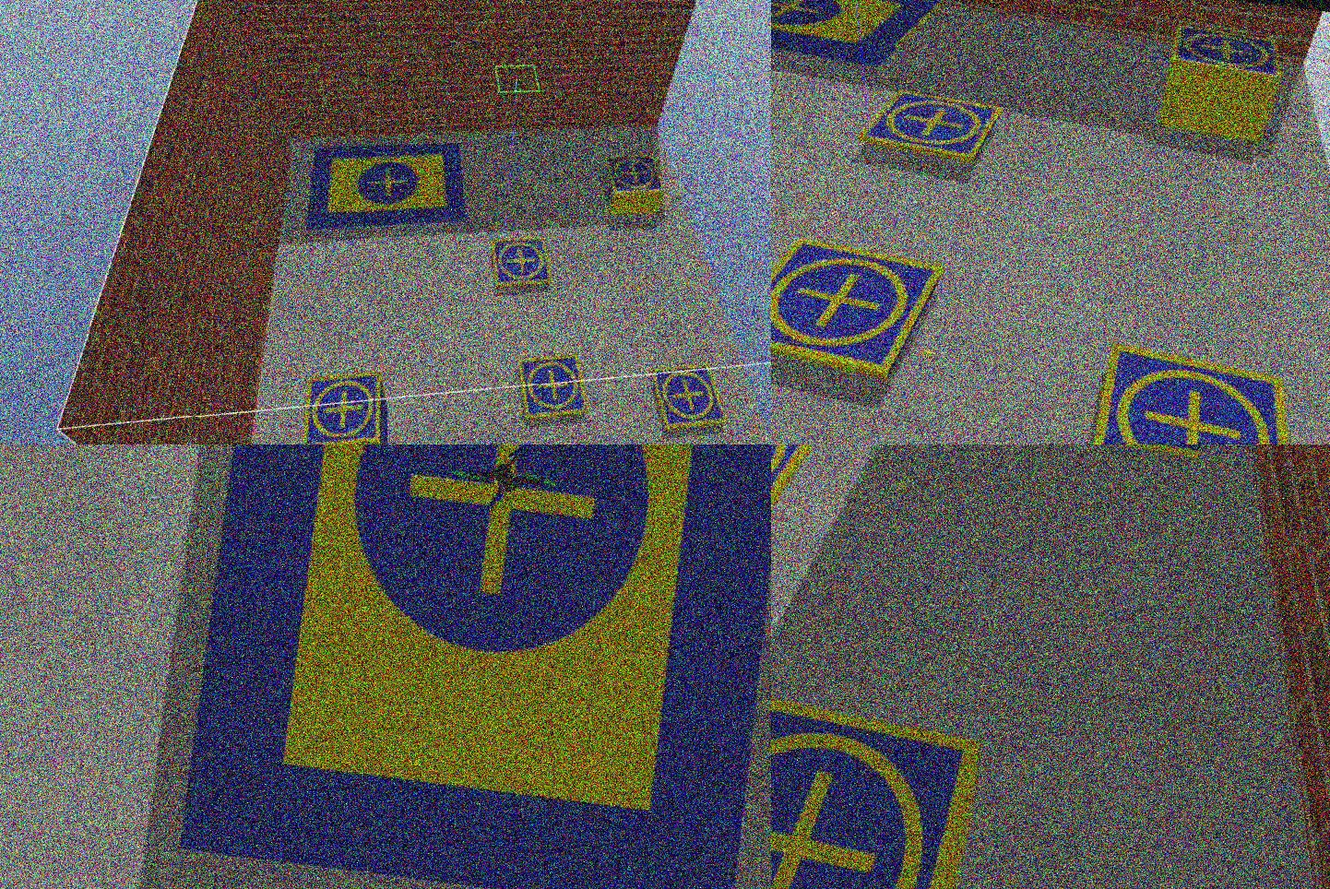large_base: (179, 445, 771, 889), (307, 128, 478, 251), (771, 1, 944, 77)
small_base: (771, 676, 989, 889), (771, 225, 947, 385), (1080, 338, 1322, 445), (860, 85, 1006, 171), (300, 365, 391, 445), (647, 358, 734, 441), (1170, 22, 1287, 82), (513, 349, 597, 430), (485, 232, 558, 295), (600, 150, 671, 203)
